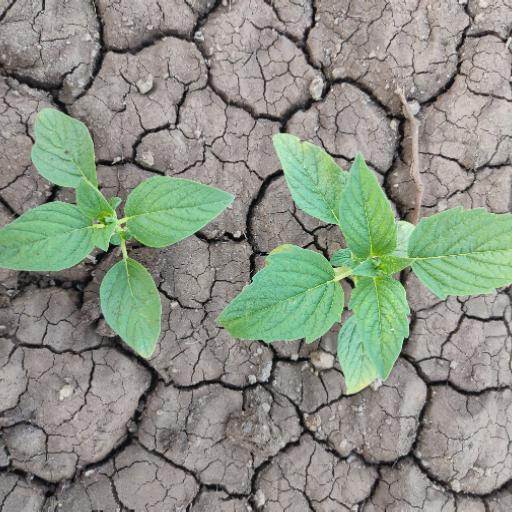crop: (239, 111, 512, 407), (10, 89, 238, 373)
